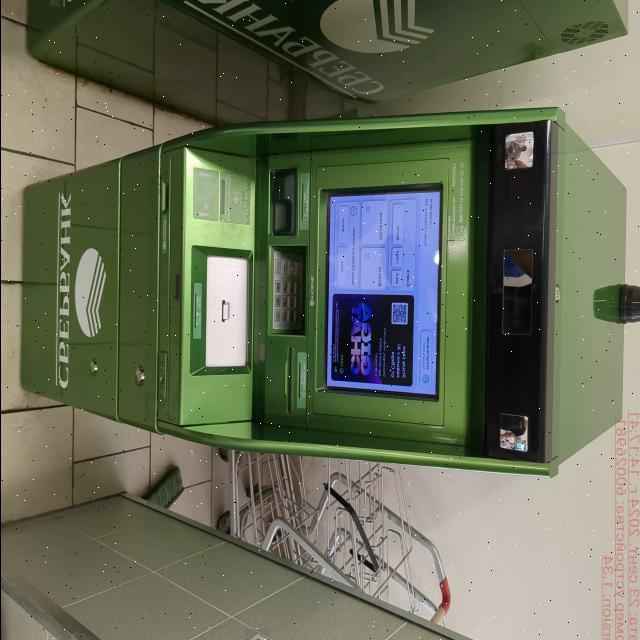bank: (17, 118, 638, 486), (24, 0, 638, 122)
